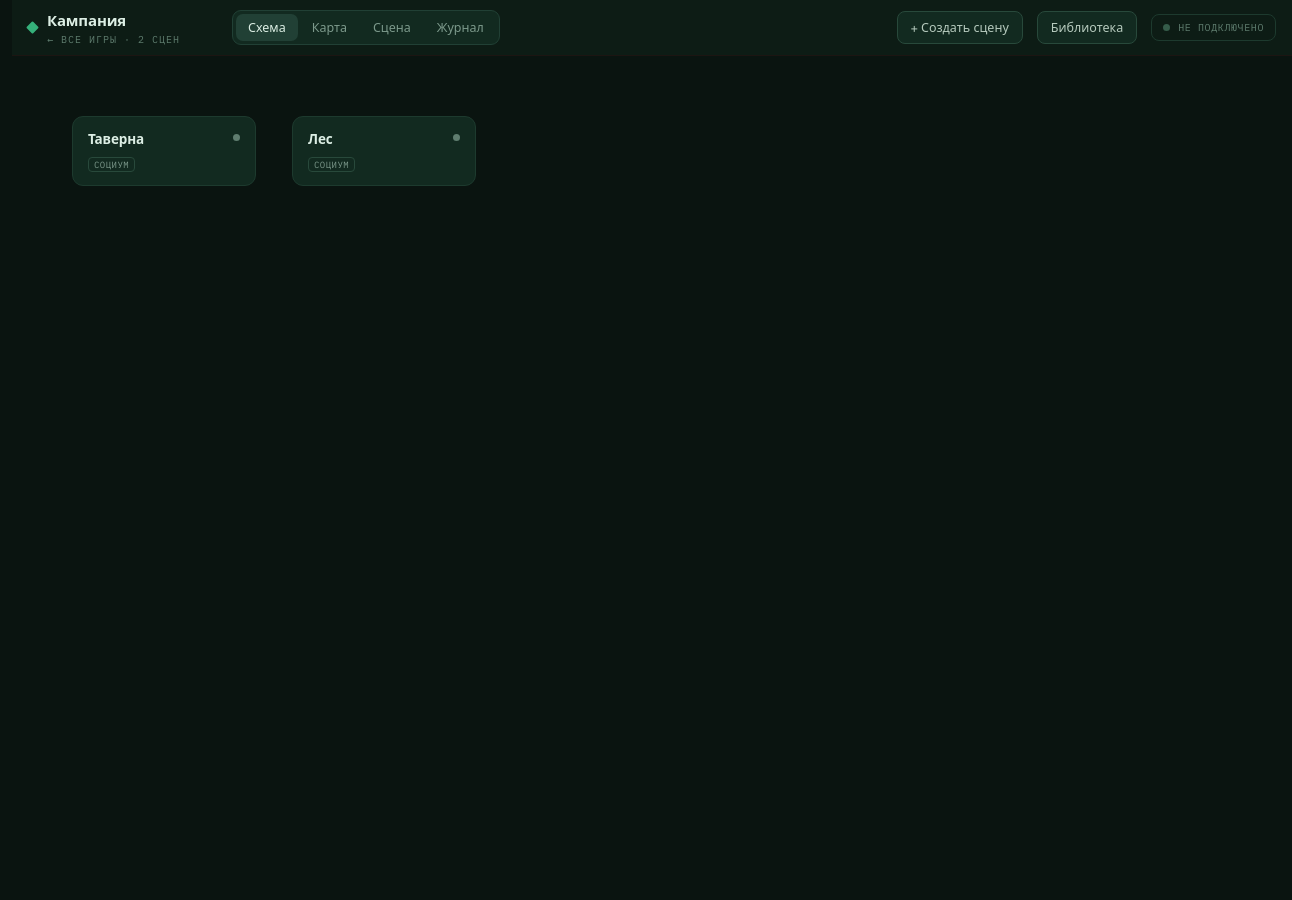
Scenario: MasterView › инспектор показывает описание сцены в textarea
Click the element with class "node" showing "Таверна Социум": (164,151) x1=72 y1=116 x2=256 y2=186
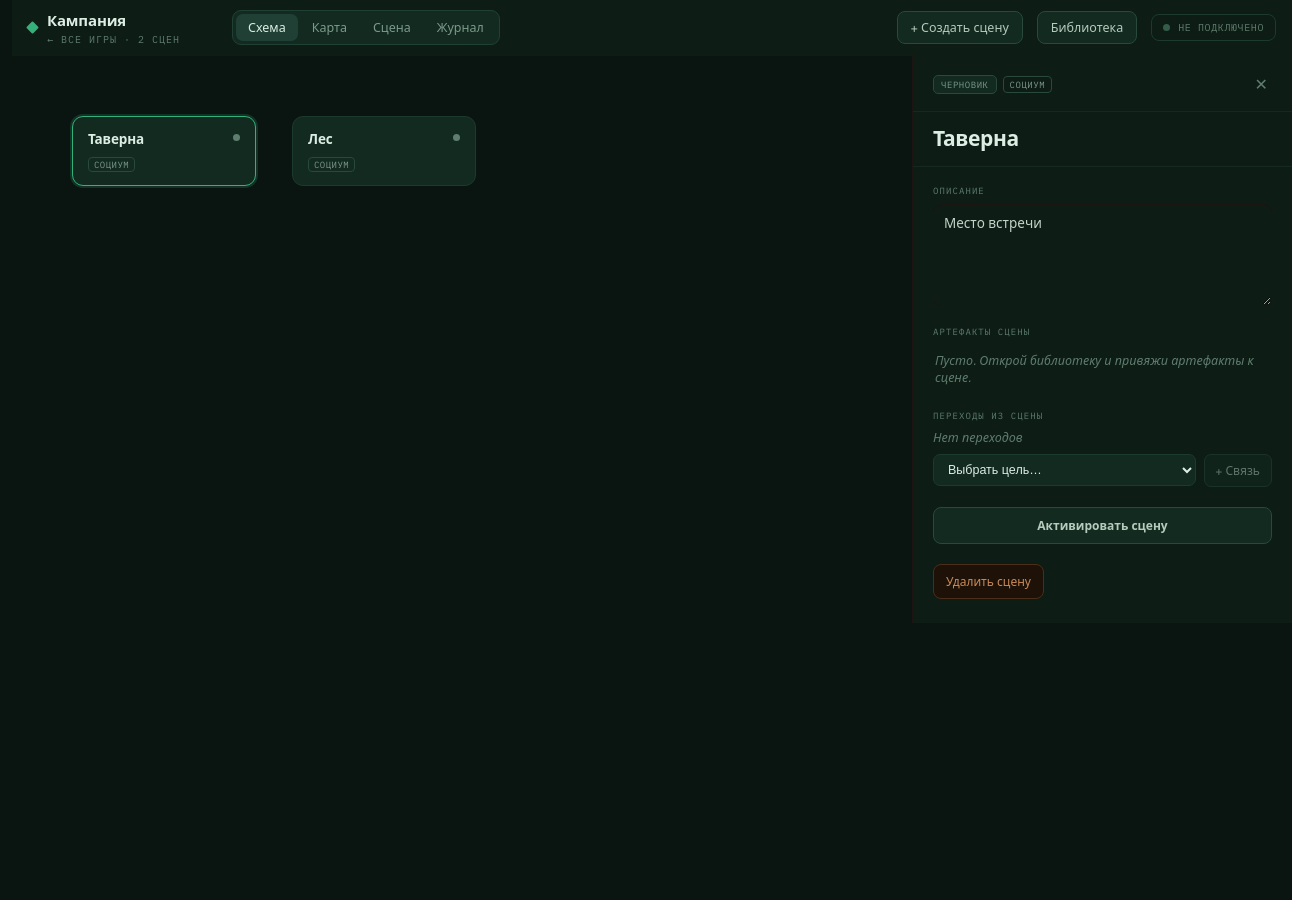
Now the text box with class "insp-summary-input" holds "Место встречи", box x1=933 y1=204 x2=1272 y2=306
